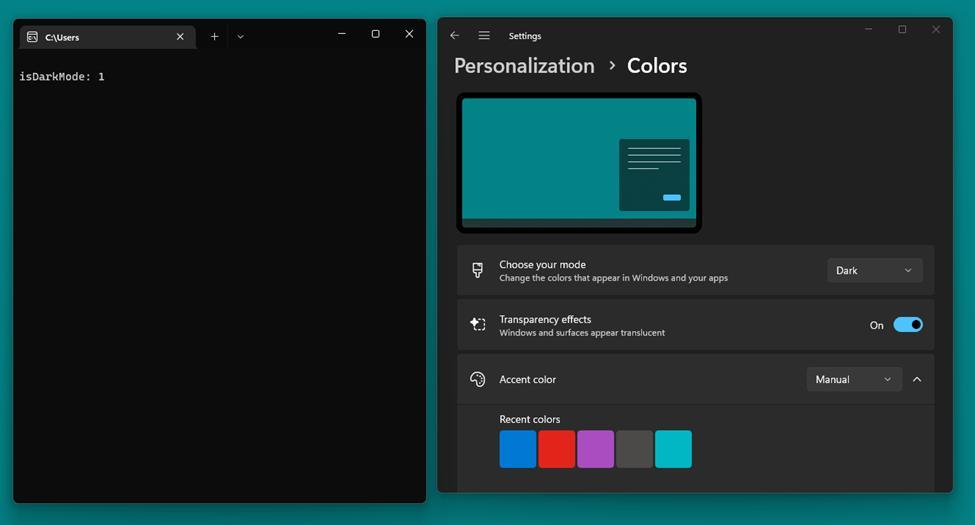button: (23, 27, 197, 51)
dropdown: (826, 259, 925, 285), (806, 369, 904, 394)
icon: (468, 369, 492, 395), (469, 260, 490, 283), (469, 317, 491, 333), (908, 372, 927, 390), (479, 29, 495, 45), (448, 27, 462, 43), (402, 29, 417, 42), (865, 26, 881, 37), (232, 33, 247, 44), (338, 29, 350, 42), (897, 26, 912, 36), (371, 28, 383, 40), (932, 25, 942, 38), (210, 33, 221, 44)
label: (449, 52, 697, 78), (494, 311, 595, 328), (496, 261, 593, 274), (498, 372, 560, 389)
switch: (894, 316, 925, 335)
